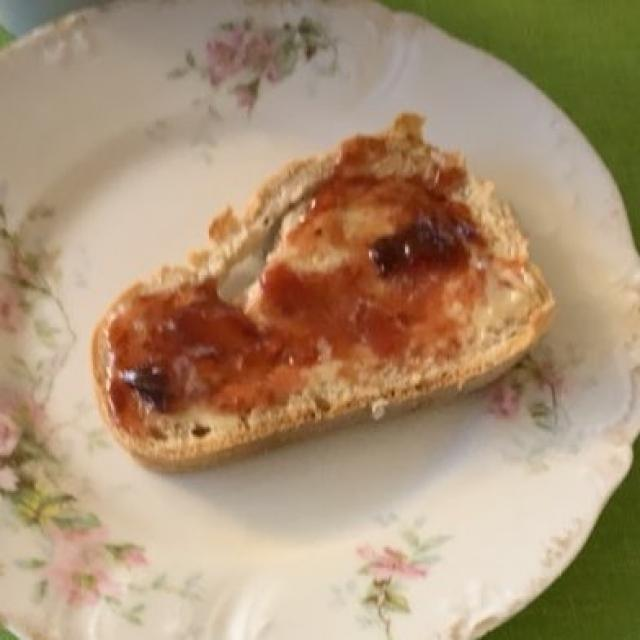bread: (96, 124, 546, 467)
jam: (134, 148, 501, 418)
